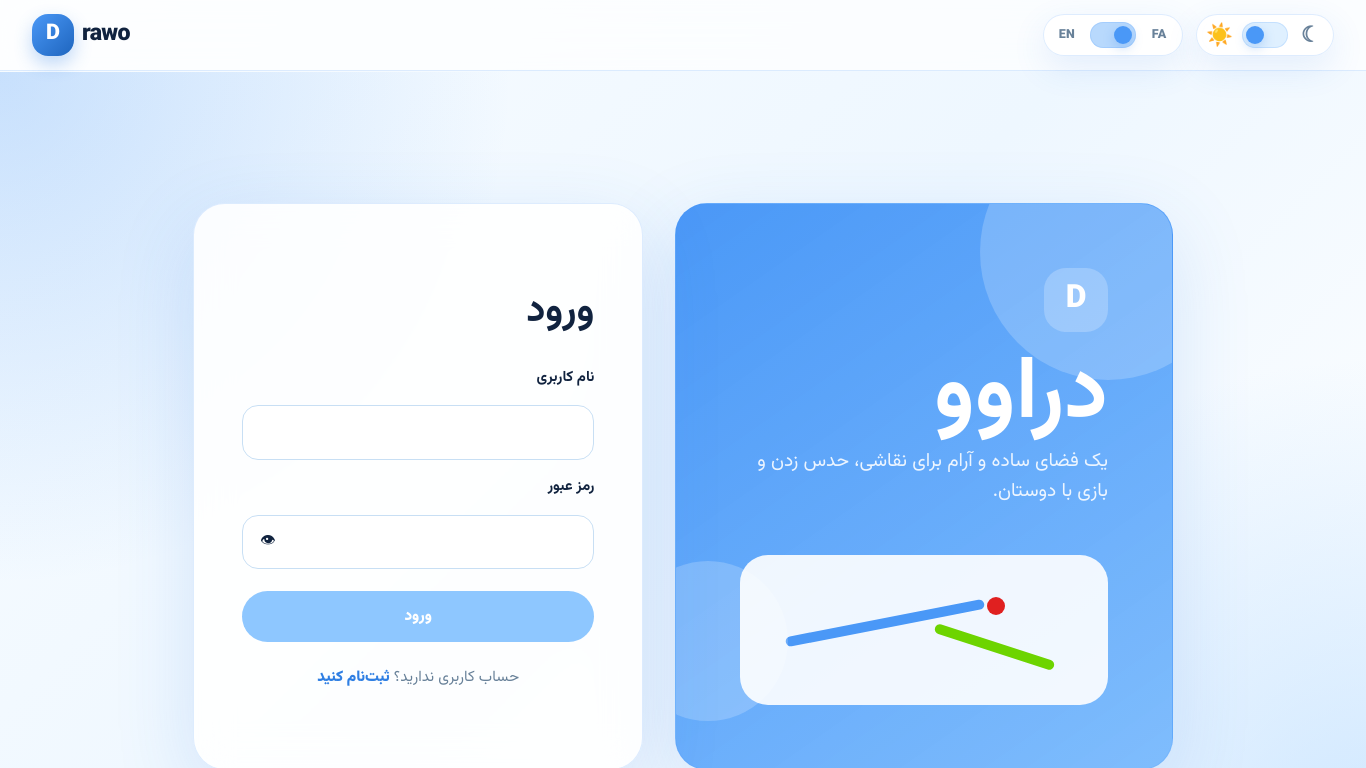
Test: LoginPage › translates known backend account-status error codes in Persian
The width and height of the screenshot is (1366, 768).
Type "blocked" into the field labelled "نام کاربری" at {"x": 418, "y": 433}, box 242,405 -> 594,460
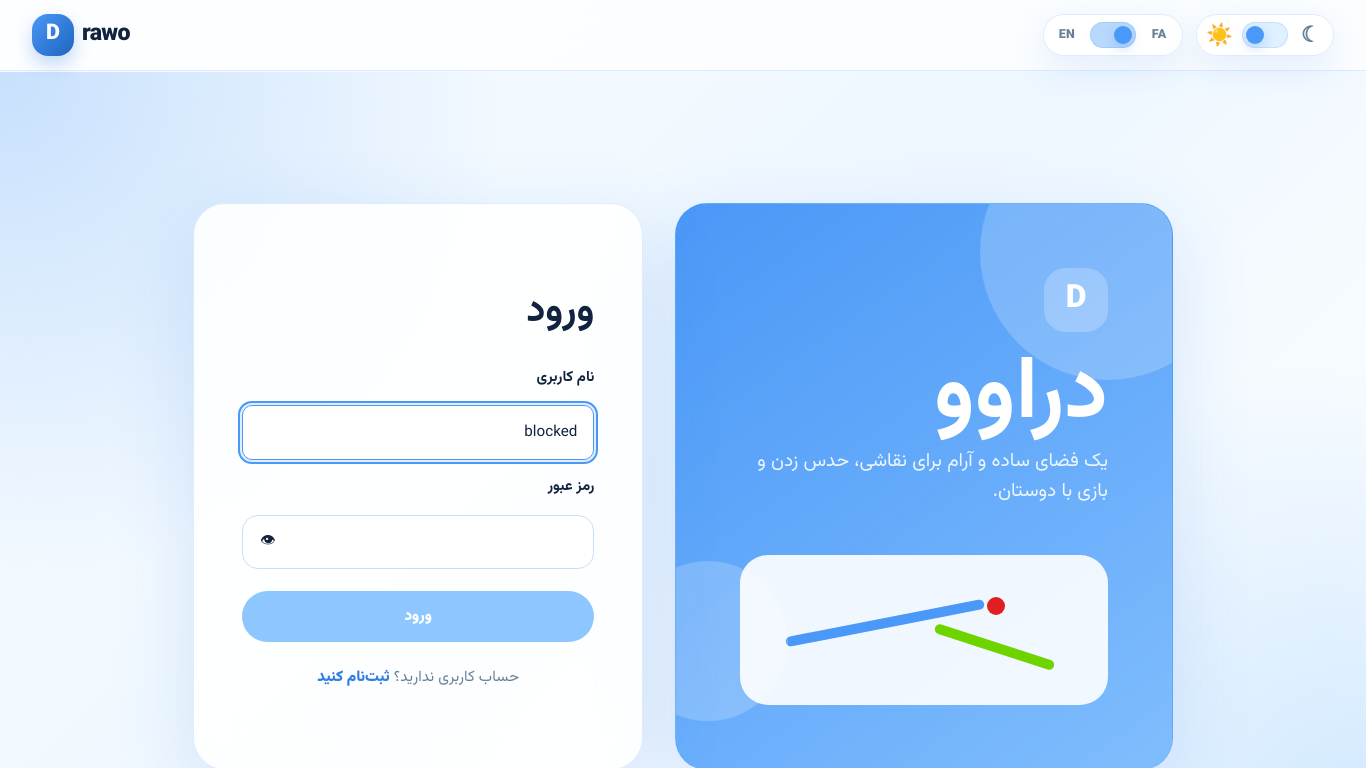
Type "secret" into the password field labelled "رمز عبور" at {"x": 418, "y": 542}, box 242,515 -> 594,569
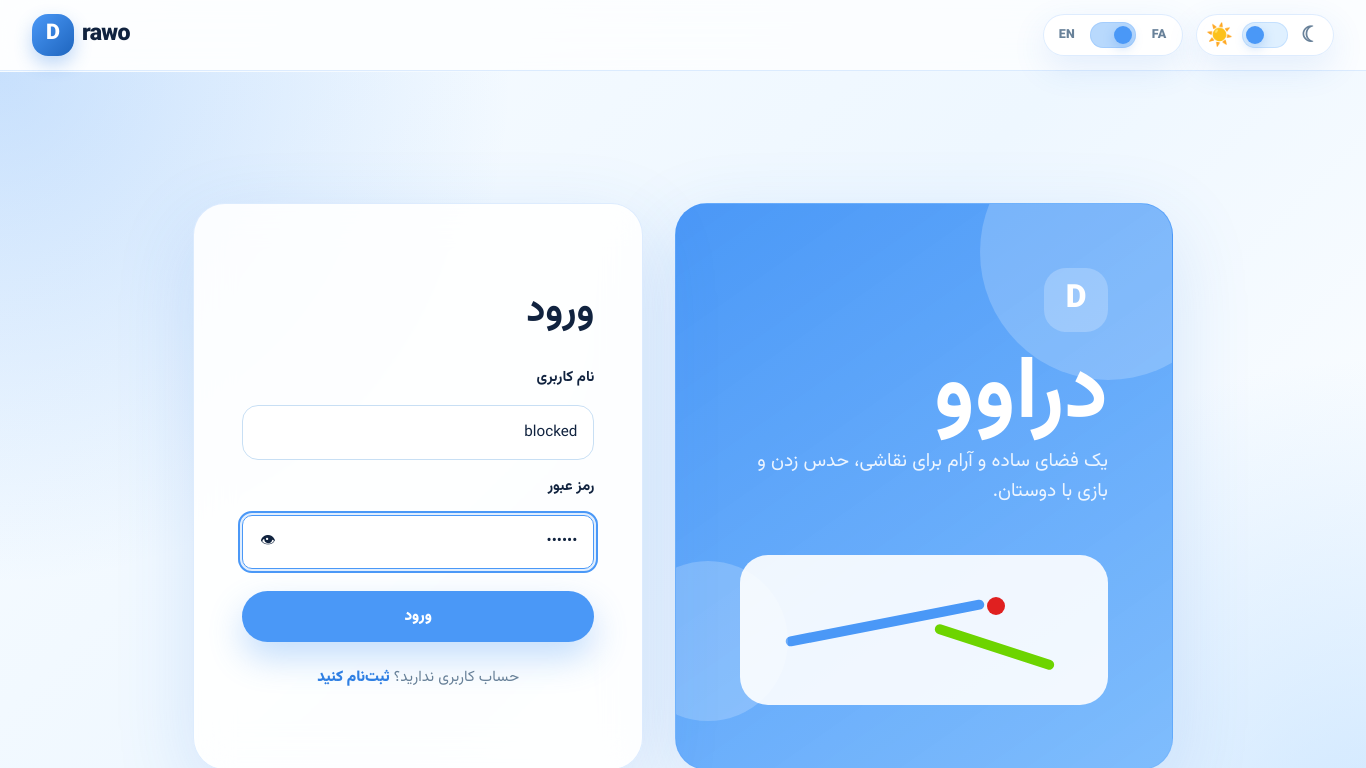
Click the button "ورود" at {"x": 418, "y": 617}, box 242,591 -> 594,642
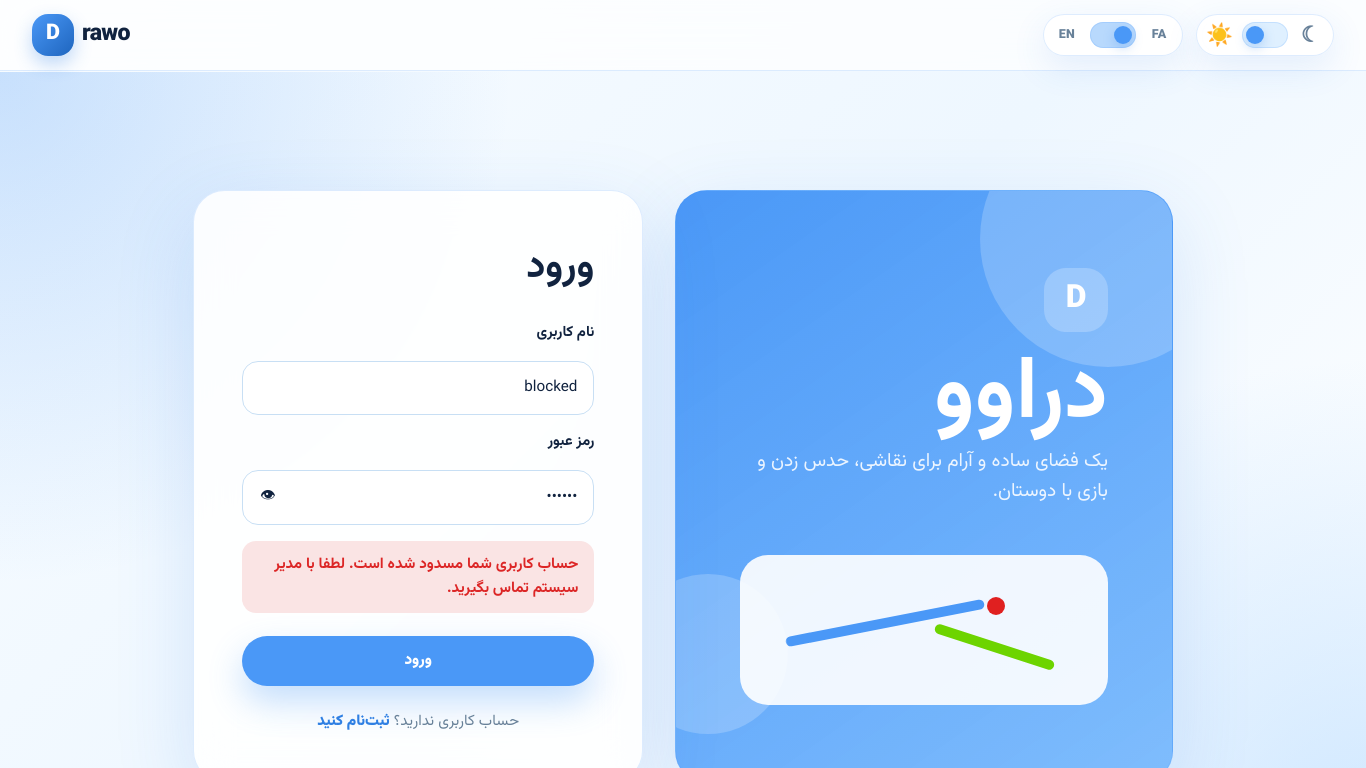
Now the message shows "حساب کاربری شما مسدود شده است", box 274,552 -> 578,600
